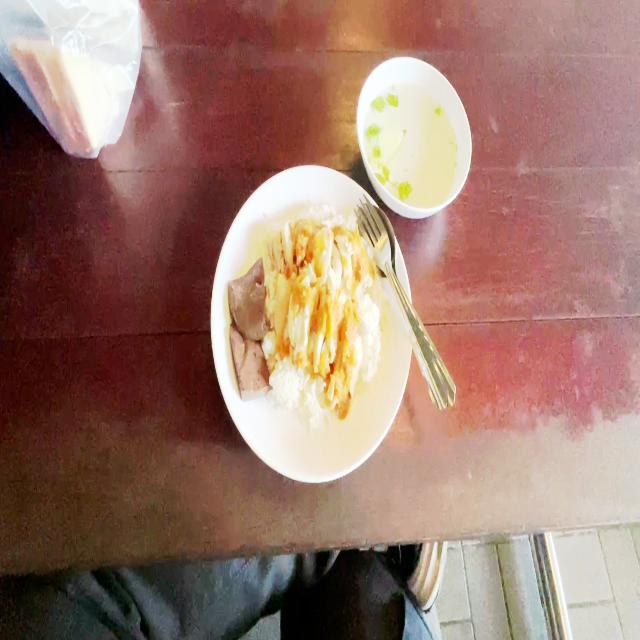boiled_chicken: (271, 220, 362, 394)
boiled_chicken_blood_jelly: (226, 255, 266, 338), (230, 317, 269, 396)
chicken_rice: (226, 204, 383, 431)
